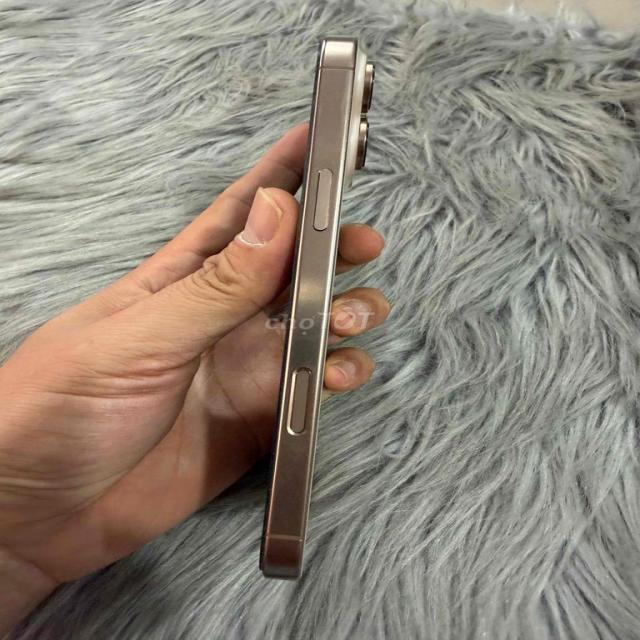gen_16: (259, 36, 374, 578)
